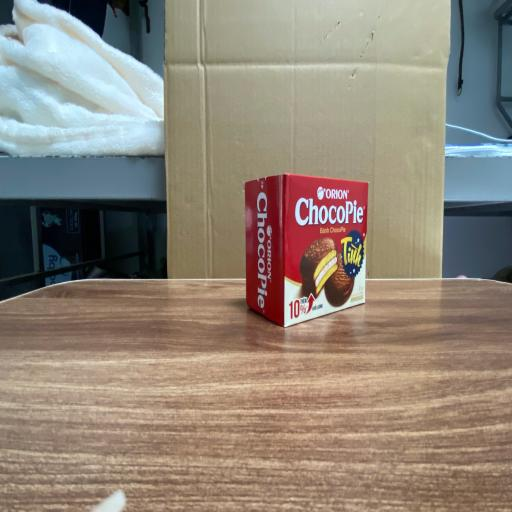chocopie: (245, 172, 368, 329)
